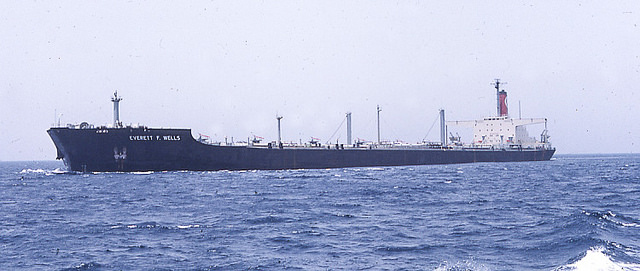tanker: (53, 80, 572, 167)
